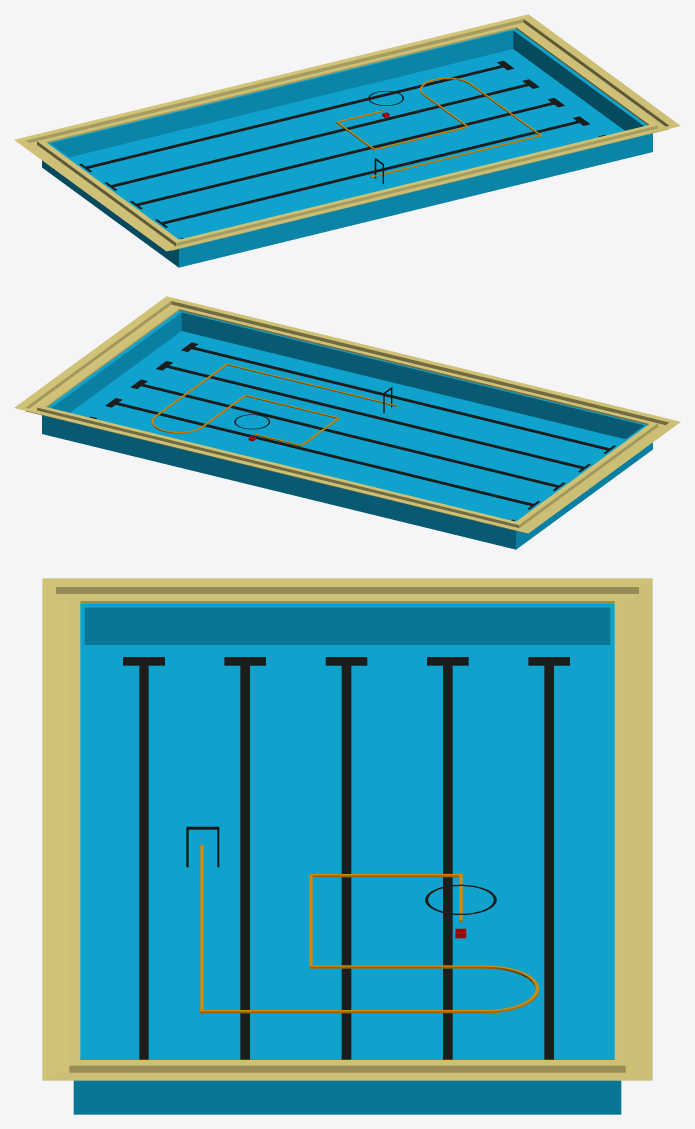
File: SwimmingPool2.fbx
3 views of the same model, one above another, from view 1: azimuth 30°, elevation 25°; view 2: azimuth 150°, elevation 25°; view 3: azimuth 270°, elevation 25° (orthographic). The views are drawn at different scales.
Visible parts, largest first — view 1: PoolBase, PoolDrainOuter, Plane, Cube.005; view 2: PoolBase, PoolDrainOuter, Plane, Cube.005; view 3: PoolBase, PoolDrainOuter, Plane, Cube.004.
Part boxes in pixels (box(x1,y1,x2,y2)): PoolBase: box(42, 28, 652, 267); PoolDrainOuter: box(14, 14, 680, 251); Plane: box(79, 60, 605, 238); Cube.005: box(370, 135, 540, 177); PoolBase: box(42, 310, 652, 549); PoolDrainOuter: box(14, 296, 680, 533); Plane: box(89, 342, 615, 520); Cube.005: box(227, 364, 397, 406); PoolBase: box(73, 604, 621, 1114); PoolDrainOuter: box(42, 578, 652, 1080); Plane: box(123, 657, 569, 1059); Cube.004: box(200, 1010, 484, 1013).
Size of the model in its own units: 5426 by 271 by 2787.
